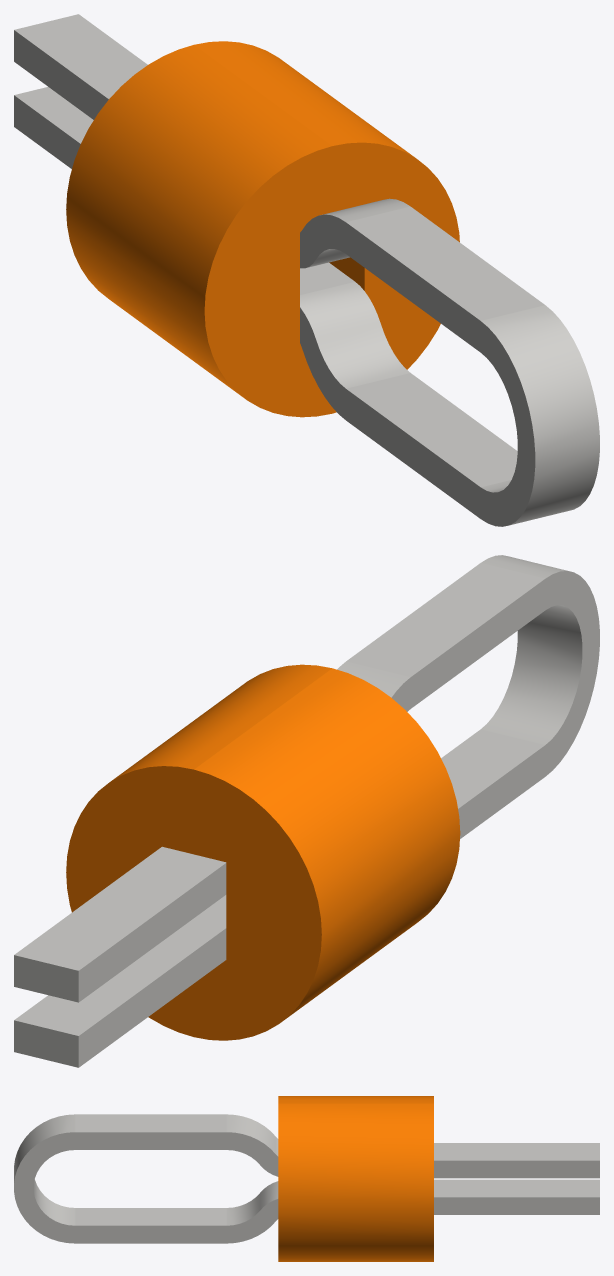
3 views of the same model, one above another, from view 1: azimuth 30°, elevation 25°; view 2: azimuth 150°, elevation 25°; view 3: azimuth 270°, elevation 25° (orthographic). The views are drawn at different scales.
Parts seen in each view (by area): view 1: Keystone5008_orange, Keystone_multipurpose_wire; view 2: Keystone5008_orange, Keystone_multipurpose_wire; view 3: Keystone_multipurpose_wire, Keystone5008_orange.
Boxes of the visible parts, bbox=[...] form: Keystone5008_orange: bbox=[66, 41, 459, 417]; Keystone_multipurpose_wire: bbox=[14, 14, 599, 526]; Keystone5008_orange: bbox=[66, 664, 460, 1040]; Keystone_multipurpose_wire: bbox=[14, 555, 599, 1067]; Keystone_multipurpose_wire: bbox=[14, 1114, 599, 1243]; Keystone5008_orange: bbox=[278, 1096, 433, 1261].
Size of the model in its own units: 3.2 by 3.2 by 11.3.
